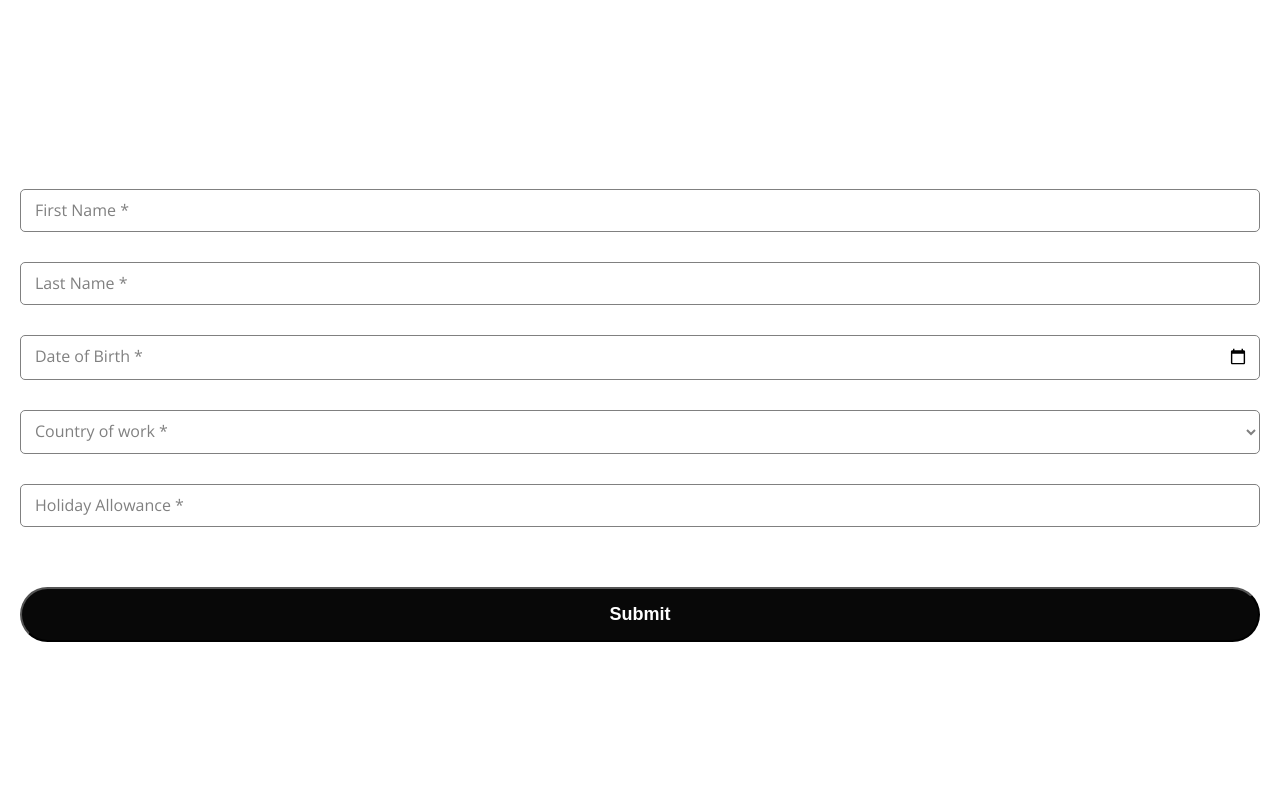
Test: <OnboardingForm /> › when country of work is spain show 'marital status' and 'social insurance number'. Also validate holiday allowance
Select "Spain" in the dropdown with test id "country_of_work" at (640, 432), box top-left (20, 410), bottom-right (1260, 454)
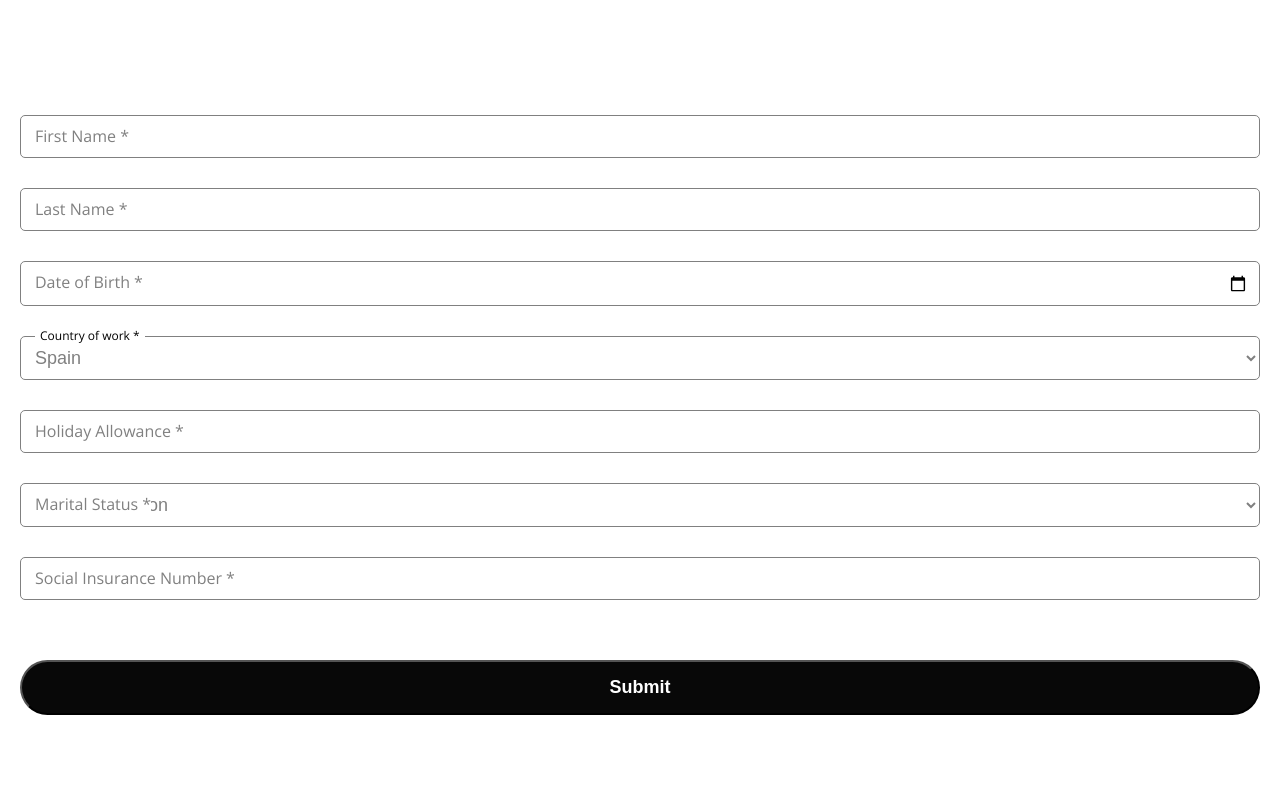
Check: the dropdown with test id "marital_status" is shown, box top-left (20, 483), bottom-right (1260, 527)
Check: the field with test id "social_insurance_number" is shown, box top-left (20, 557), bottom-right (1260, 600)
# test for when it less than 30
Type "23" into the number field with test id "holiday_allowance" at (640, 432), box top-left (20, 410), bottom-right (1260, 453)
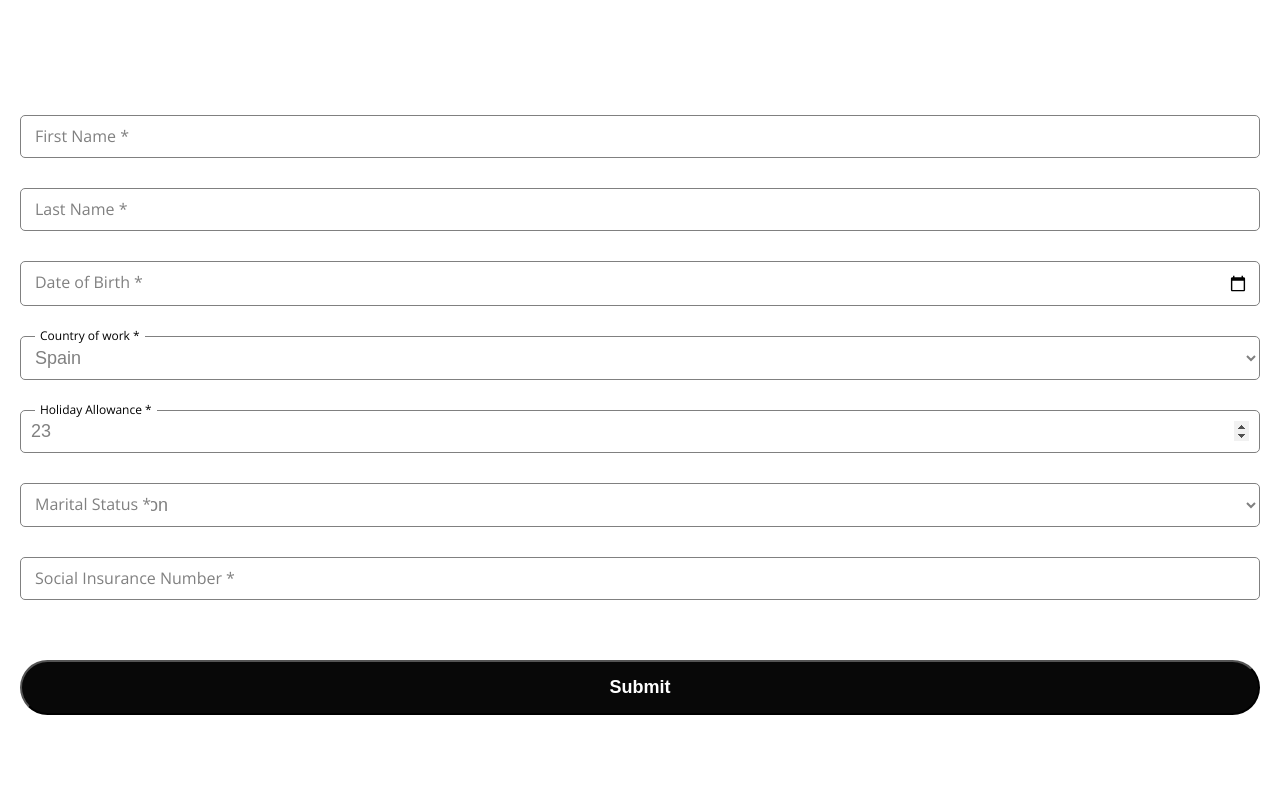
Leave the number field with test id "holiday_allowance", box top-left (20, 410), bottom-right (1260, 453)
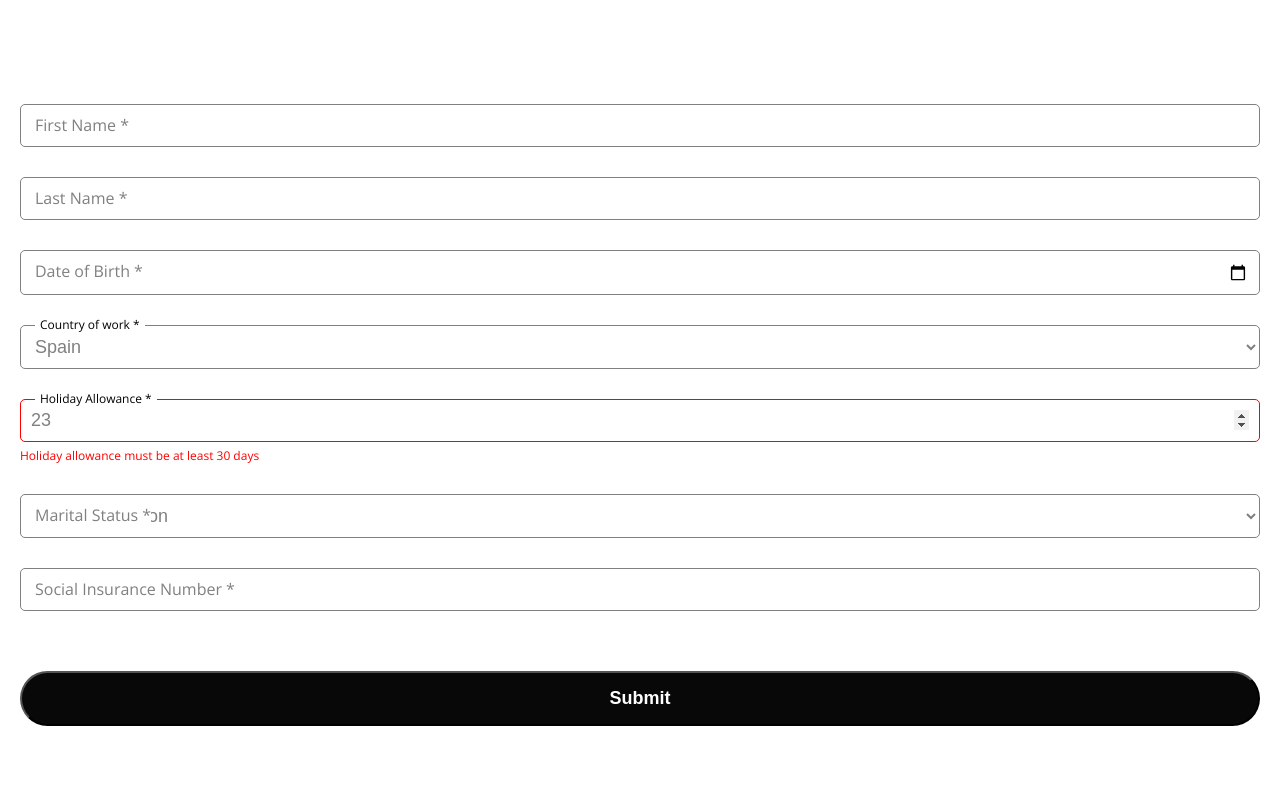
Check: the text "Holiday allowance must be at least 30 days" is shown, box top-left (20, 447), bottom-right (259, 464)
# test for when it more than 30
Replace the text in the number field with test id "holiday_allowance" with "31" at (640, 420), box top-left (20, 399), bottom-right (1260, 442)
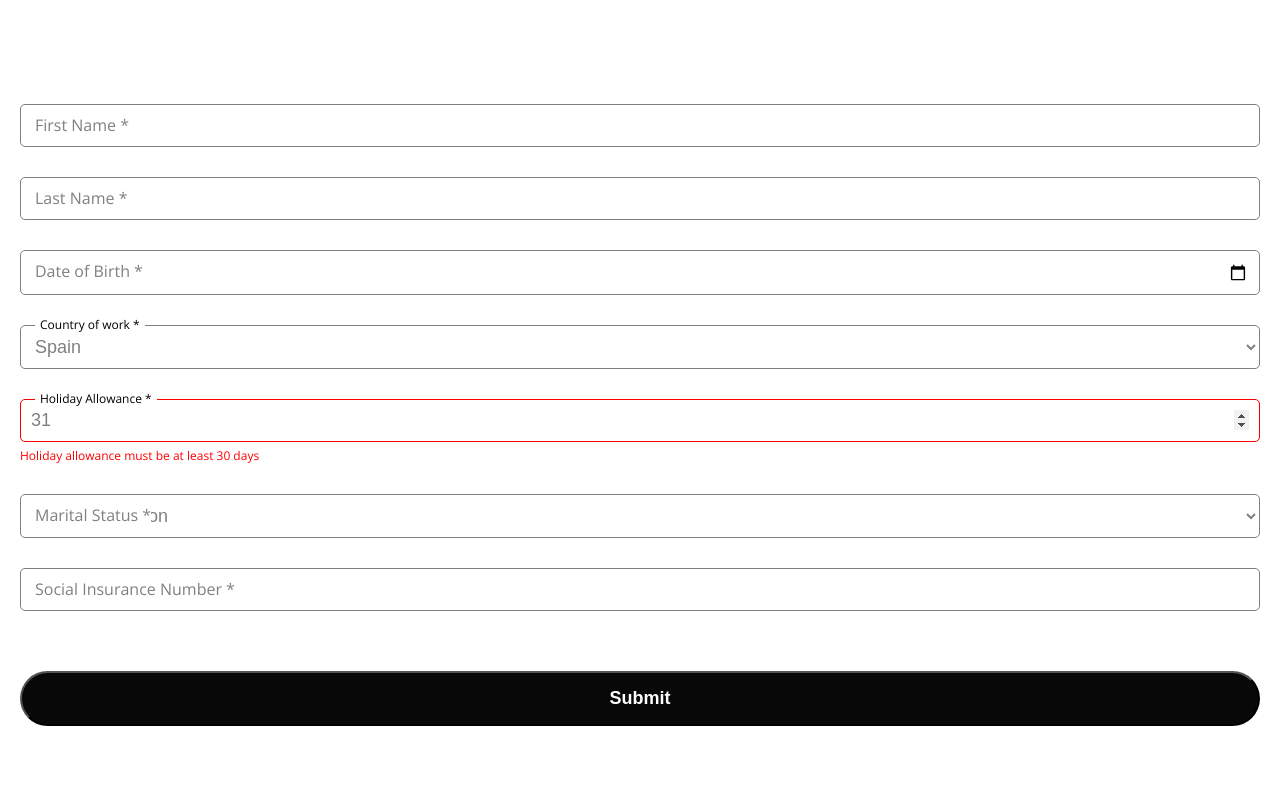
Leave the number field with test id "holiday_allowance", box top-left (20, 399), bottom-right (1260, 442)
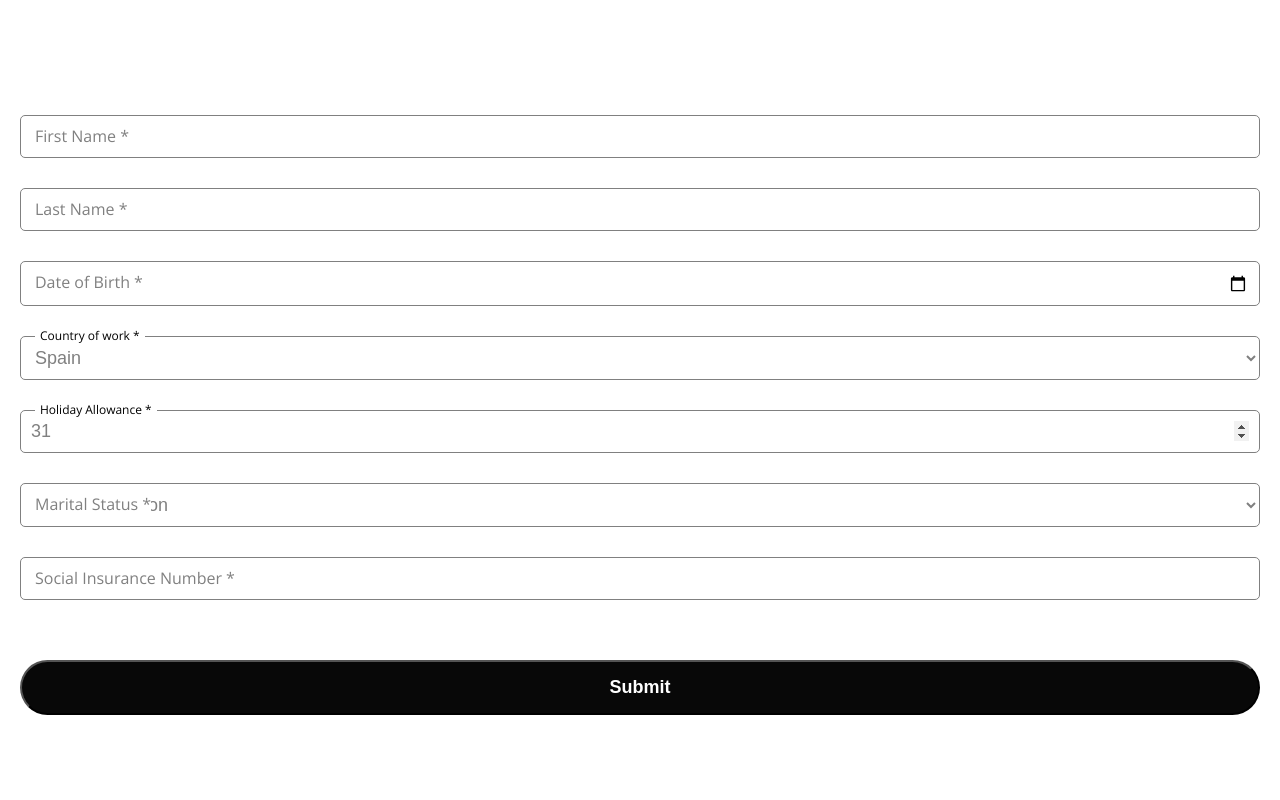
Check: the text "Holiday allowance must be at least 30 days" is gone
